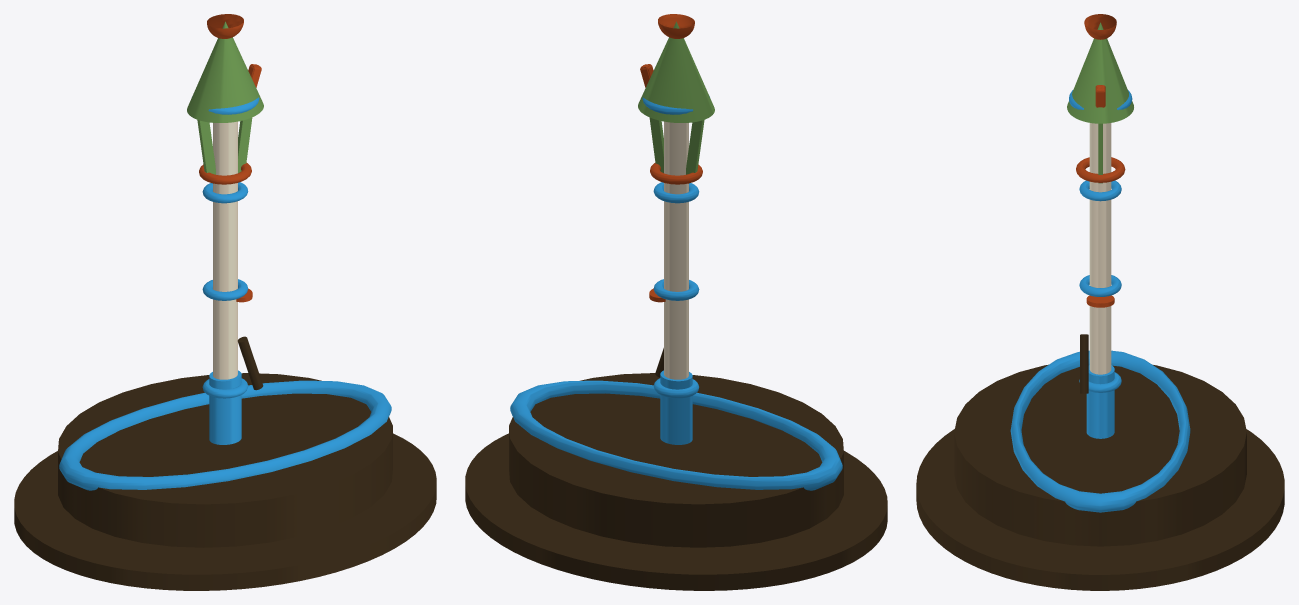
File: 0595_考古图鉴_商妇好大铜钺.glb
3 views of the same model, side by side, from view 1: azimuth 30°, elevation 25°; view 2: azimuth 150°, elevation 25°; view 3: azimuth 270°, elevation 25° (orthographic).
Parts seen in each view (by area): view 1: card_0595; view 2: card_0595; view 3: card_0595.
Part boxes in pixels (x1,y1,x2,y2): card_0595: (14, 14, 436, 590); card_0595: (465, 14, 887, 590); card_0595: (916, 14, 1284, 590).
Size of the model in its own units: 0.814 by 1 by 0.6979.
